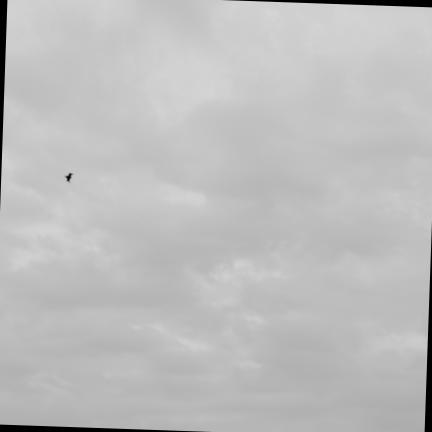Shahed: (65, 173, 72, 182)
